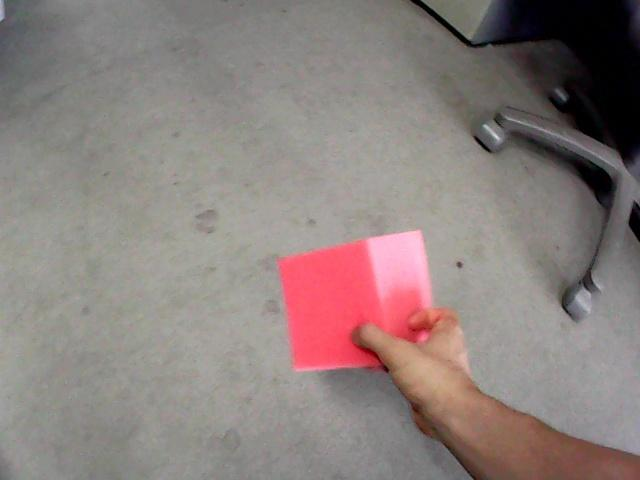red_block: (279, 231, 431, 369)
